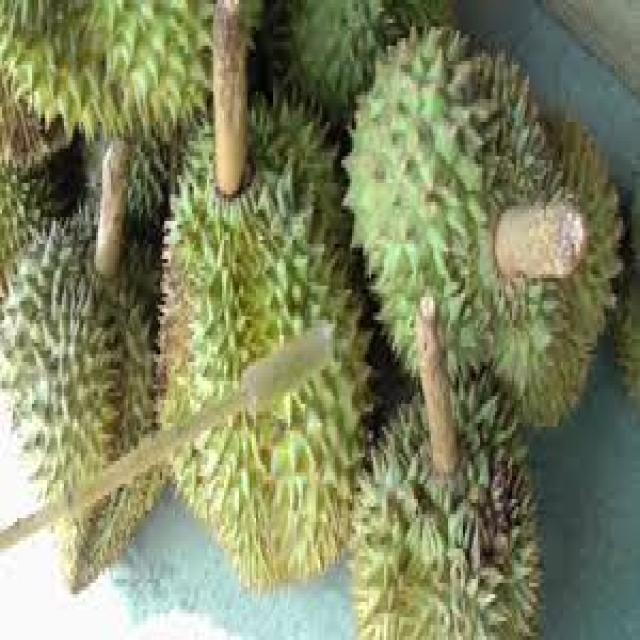immature: (339, 18, 629, 439), (155, 78, 377, 586)
